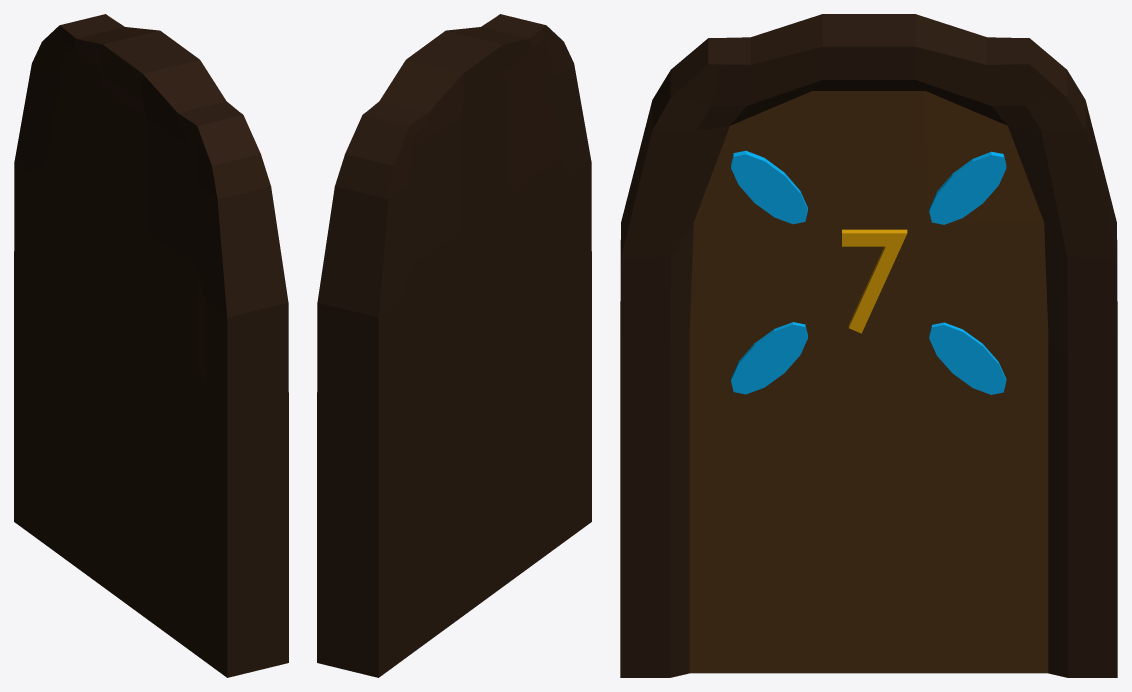
Rendered from Door7.glb.
3 views of the same model, side by side, from view 1: azimuth 30°, elevation 25°; view 2: azimuth 150°, elevation 25°; view 3: azimuth 270°, elevation 25° (orthographic). The views are drawn at different scales.
Visible parts, largest first — view 1: door1; view 2: door1; view 3: door1, 7.
Part boxes in pixels (x1=…): door1: x1=14, y1=14, x2=288, y2=677; door1: x1=317, y1=14, x2=591, y2=677; door1: x1=620, y1=14, x2=1117, y2=677; 7: x1=842, y1=229, x2=907, y2=333.
Size of the model in its own units: 0.3892 by 3.27 by 2.34.
